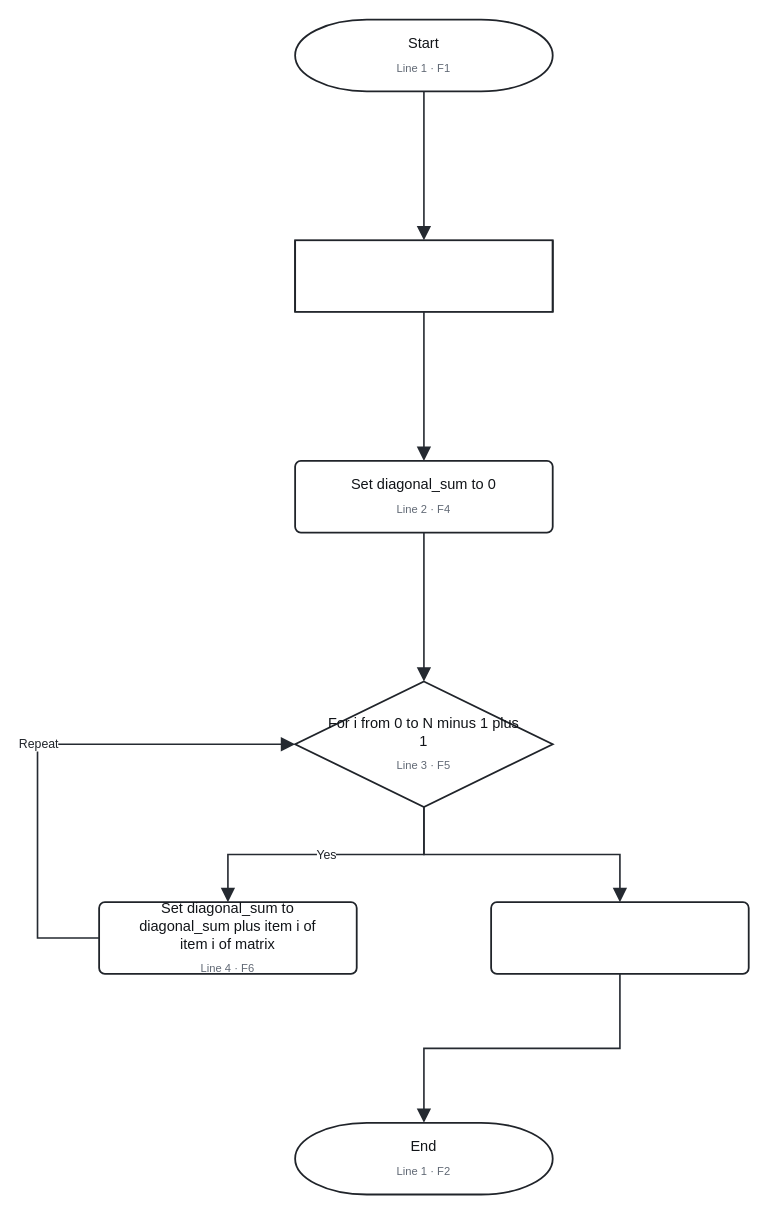
Image size: 769x1215. Some labels were removed from this diagram. The centre of each missing label's shape, as x and y in pixels:
Return diagonal_sum Line 6 · F7: the point at 619,937
Run function SumMainDiagonal with matrix, N Line 1 · F3: the point at 423,275
